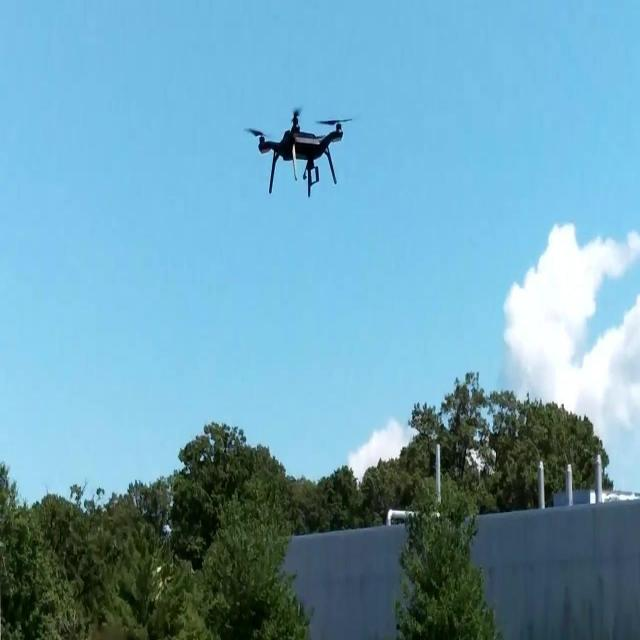UAV: (244, 108, 352, 198)
